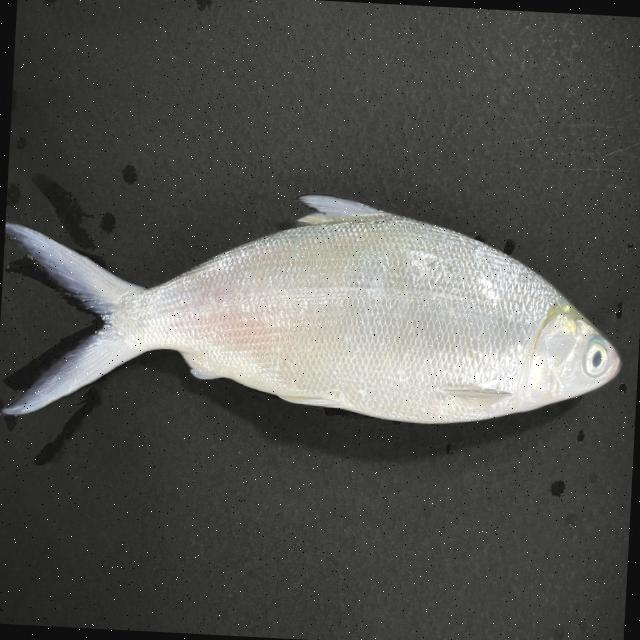740 g: (0, 176, 632, 447)
